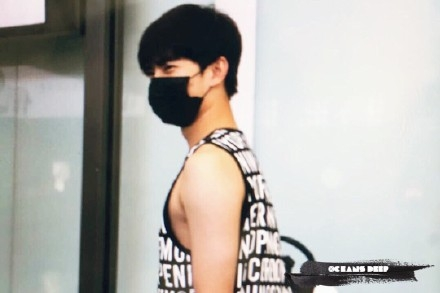face_mask: (147, 43, 204, 128)
